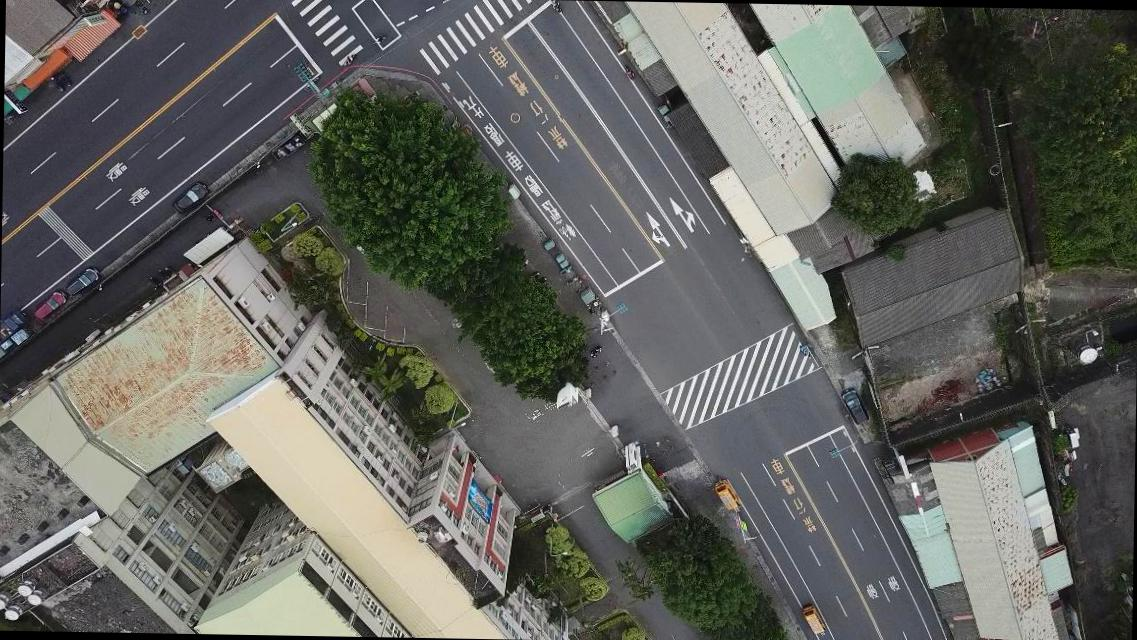vehicle: (172, 180, 210, 215), (840, 387, 869, 425), (65, 265, 99, 296), (34, 290, 66, 322), (714, 478, 742, 513), (802, 606, 828, 636)
